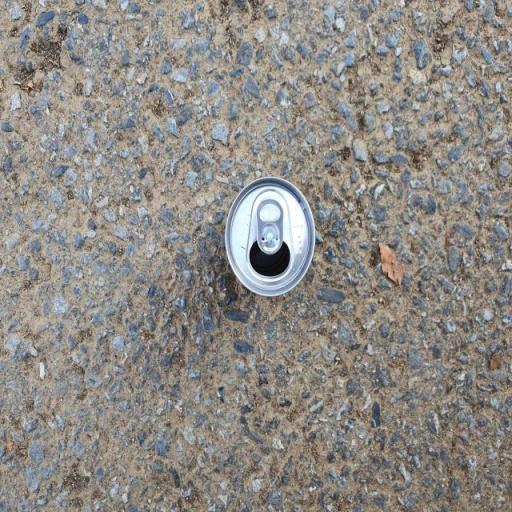metal: (187, 136, 343, 343)
